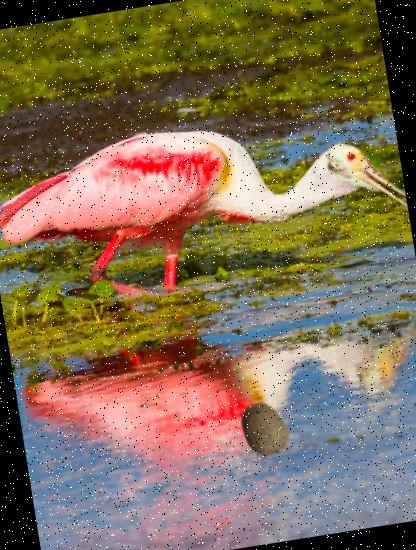Kiwi: (232, 397, 297, 462)
